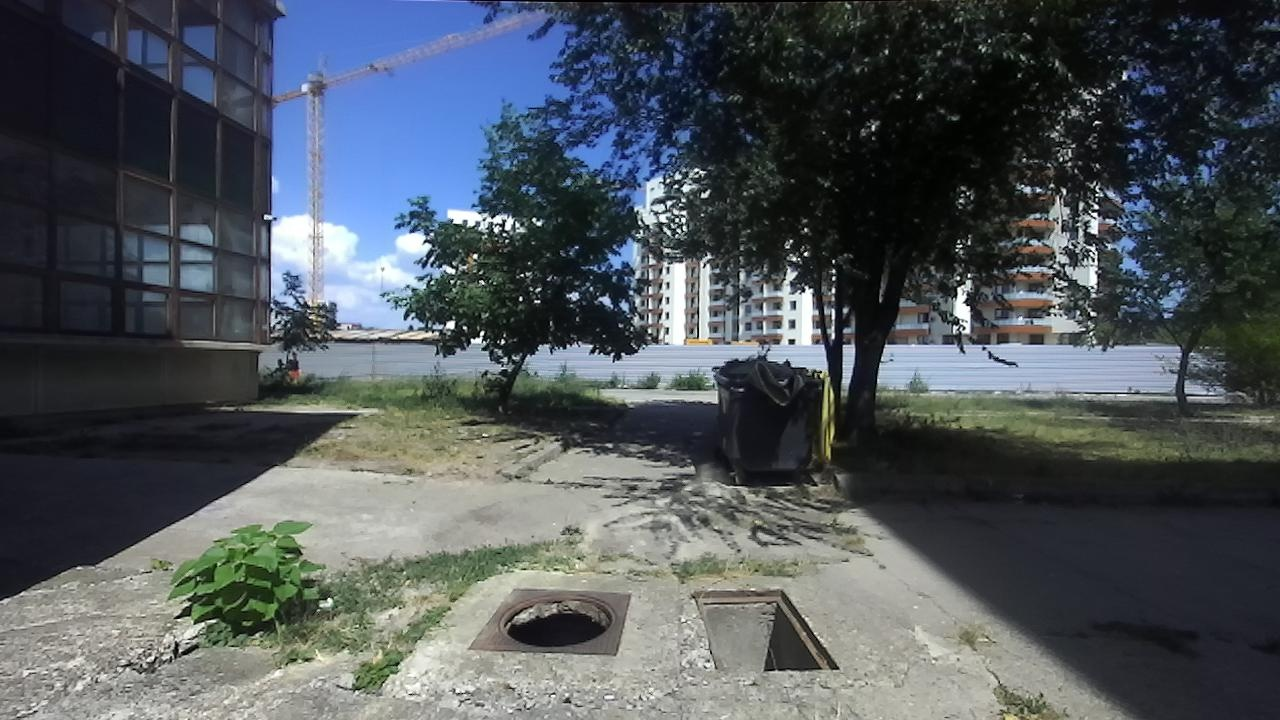drain: (688, 587, 847, 675), (491, 590, 616, 645)
